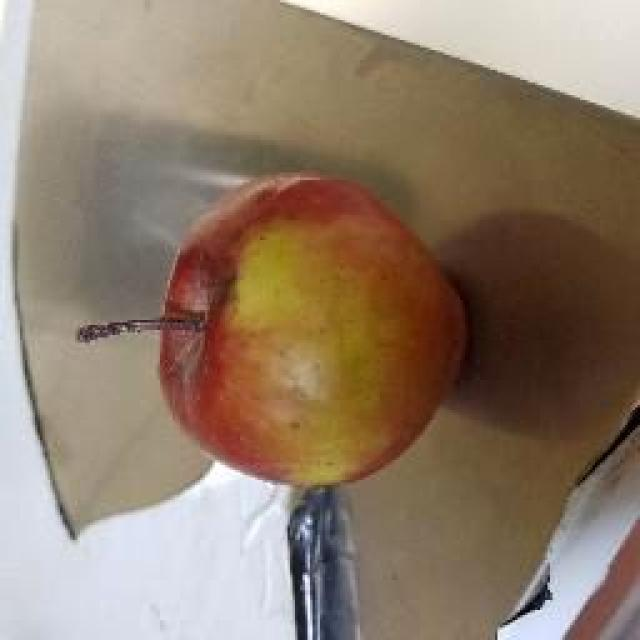Good_Apple: (128, 175, 470, 490)
